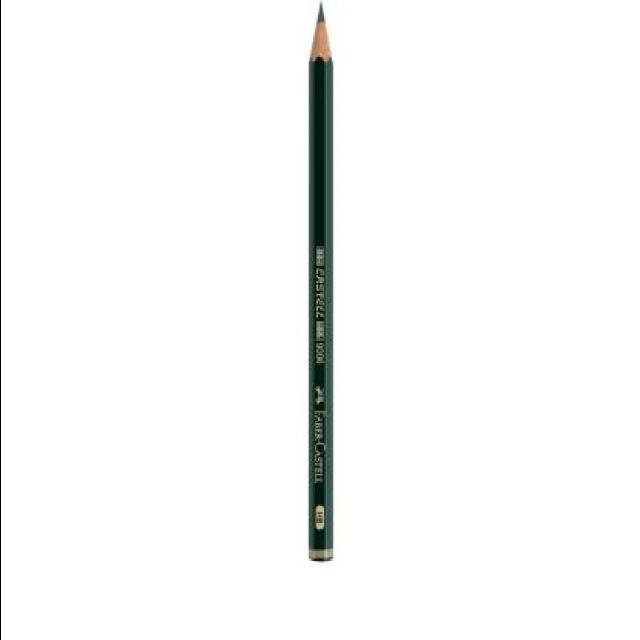Pencil: (297, 0, 348, 82)
